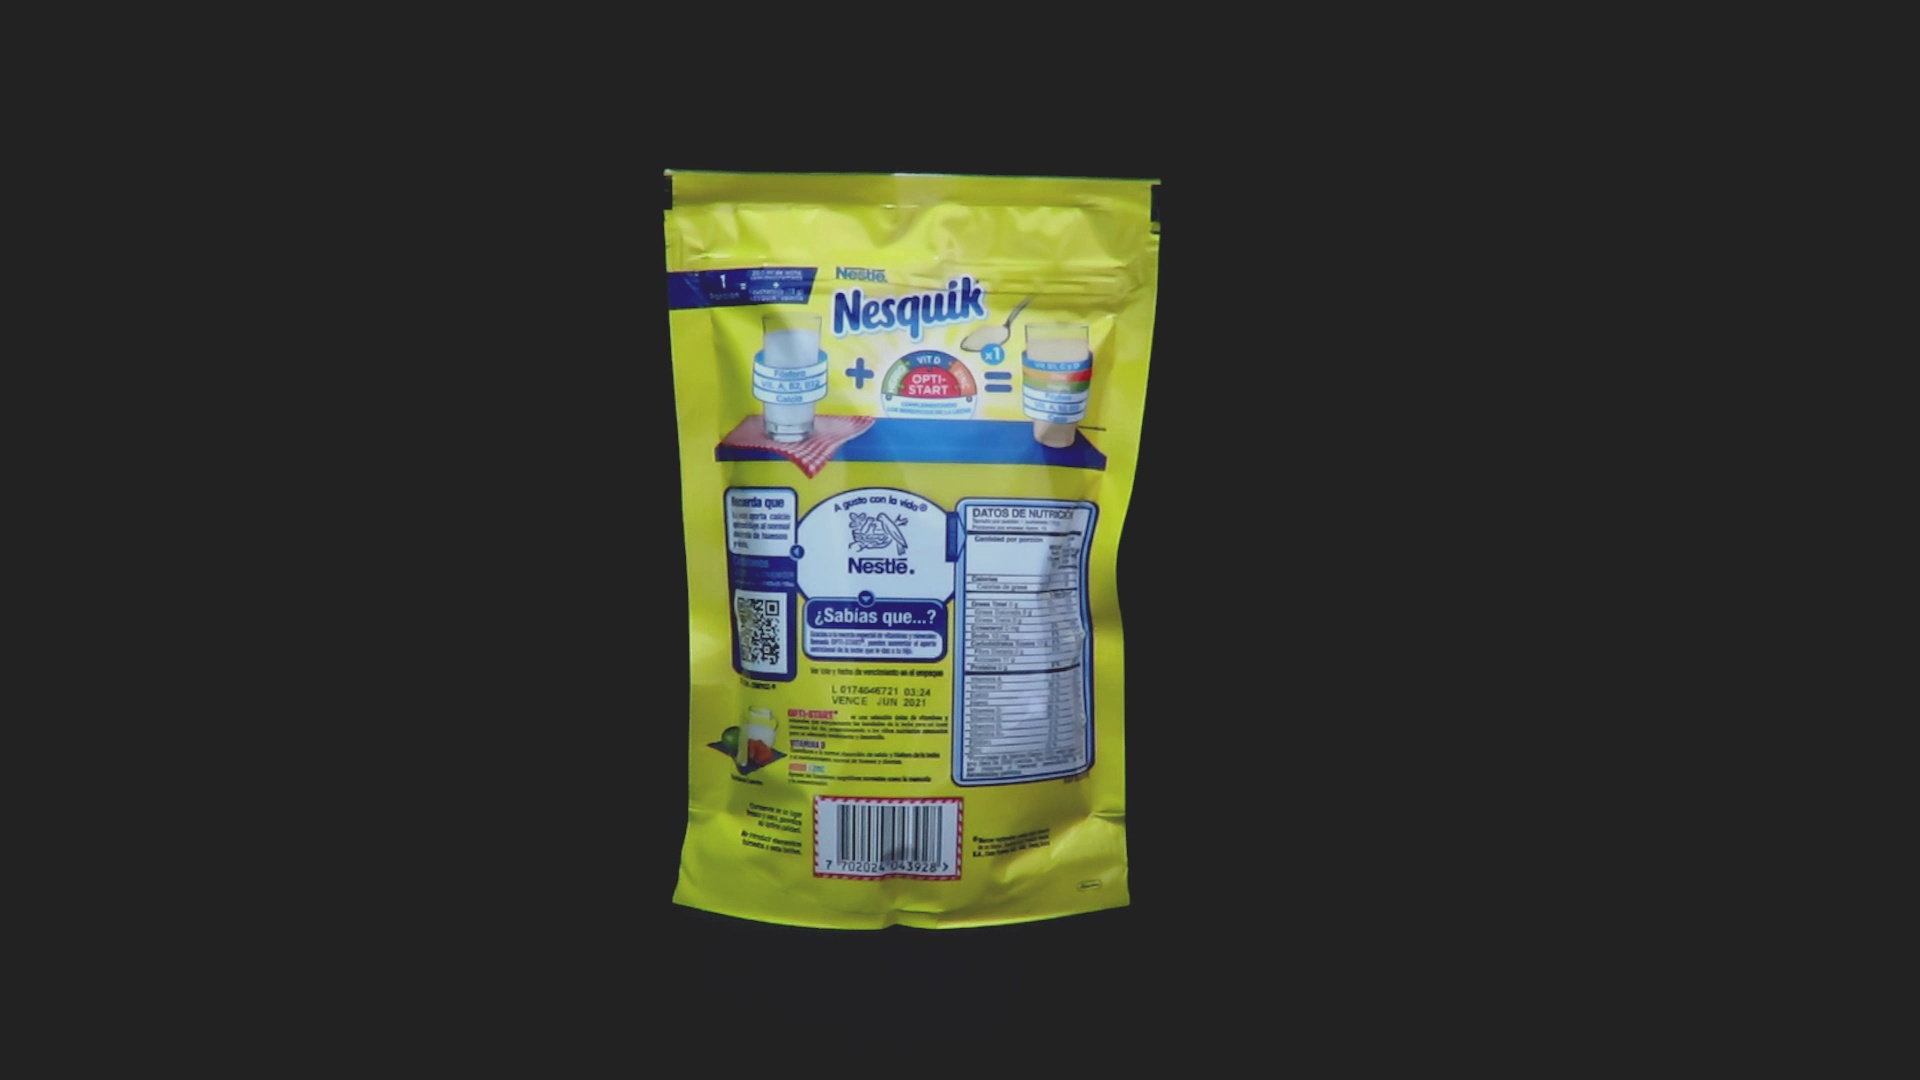COL0170306DYP20000: (702, 477, 1106, 887)
